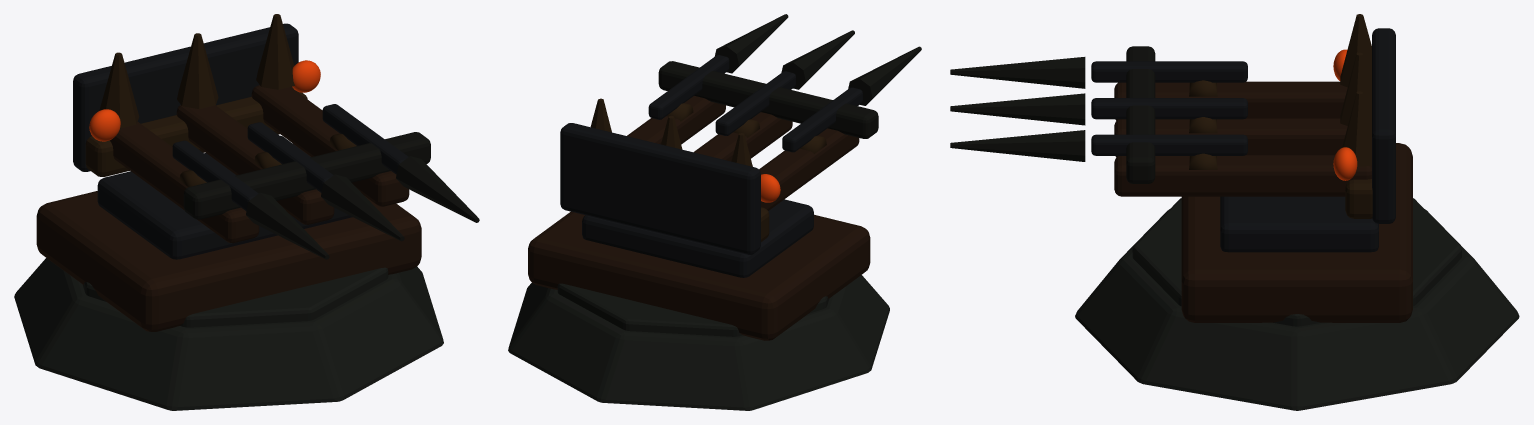
The model's file is TowerKing2.obj.
3 renders of one model, left to right at view 1: azimuth 30°, elevation 25°; view 2: azimuth 150°, elevation 25°; view 3: azimuth 270°, elevation 25°, orthographic. The views are drawn at different scales.
Visible parts, largest first — view 1: polished_stone_socket_lower_course, royal_oak_deck, iron_royal_mantle, iron_royal_turntable, polished_stone_socket_upper_course, royal_bow_stock, royal_bow_stock.002, royal_bow_stock.001, bronze_crown_rail, royal_bow_limb, royal_bolt.001, royal_bow_limb.002 (+11 smaller); view 2: polished_stone_socket_lower_course, royal_oak_deck, iron_royal_mantle, iron_royal_turntable, polished_stone_socket_upper_course, royal_bow_stock, royal_bow_limb, royal_bow_stock.001, royal_bow_stock.002, royal_iron_guide.002, royal_iron_guide, royal_iron_guide.001 (+9 smaller); view 3: polished_stone_socket_lower_course, royal_oak_deck, royal_bow_stock.002, iron_royal_turntable, polished_stone_socket_upper_course, royal_bow_stock, royal_bow_stock.001, iron_royal_mantle, royal_iron_guide.002, royal_iron_guide, royal_iron_guide.001, royal_bolt.002 (+10 smaller).
Boxes of the visible parts, <box> form: polished_stone_socket_lower_course: <box>14,258,443,410</box>; royal_oak_deck: <box>36,144,421,331</box>; iron_royal_mantle: <box>73,23,298,171</box>; iron_royal_turntable: <box>97,135,352,259</box>; polished_stone_socket_upper_course: <box>82,267,388,327</box>; royal_bow_stock: <box>110,122,259,243</box>; royal_bow_stock.002: <box>251,85,409,206</box>; royal_bow_stock.001: <box>176,105,334,224</box>; bronze_crown_rail: <box>85,87,307,176</box>; royal_bow_limb: <box>183,169,277,219</box>; royal_bolt.001: <box>321,174,404,241</box>; royal_bow_limb.002: <box>340,132,430,182</box>; polished_stone_socket_lower_course: <box>508,275,889,410</box>; royal_oak_deck: <box>528,211,870,340</box>; iron_royal_mantle: <box>560,123,760,254</box>; iron_royal_turntable: <box>582,199,813,277</box>; polished_stone_socket_upper_course: <box>557,283,829,336</box>; royal_bow_stock: <box>759,128,859,210</box>; royal_bow_limb: <box>796,94,878,138</box>; royal_bow_stock.001: <box>694,112,792,161</box>; royal_bow_stock.002: <box>627,96,725,144</box>; royal_iron_guide.002: <box>648,55,729,119</box>; royal_iron_guide: <box>782,87,862,152</box>; royal_iron_guide.001: <box>715,71,795,135</box>; polished_stone_socket_lower_course: <box>1075,209,1519,410</box>; royal_oak_deck: <box>1181,143,1412,322</box>; royal_bow_stock.002: <box>1114,155,1371,196</box>; iron_royal_turntable: <box>1220,196,1378,252</box>; polished_stone_socket_upper_course: <box>1132,198,1461,326</box>; royal_bow_stock: <box>1114,81,1347,120</box>; royal_bow_stock.001: <box>1114,118,1347,157</box>; iron_royal_mantle: <box>1372,28,1395,223</box>; royal_iron_guide.002: <box>1091,134,1247,155</box>; royal_iron_guide: <box>1091,61,1247,82</box>; royal_iron_guide.001: <box>1091,98,1247,119</box>; royal_bolt.002: <box>950,130,1085,161</box>.
Bounding box in the file's own units: 1.85 × 1.21 × 2.36.
